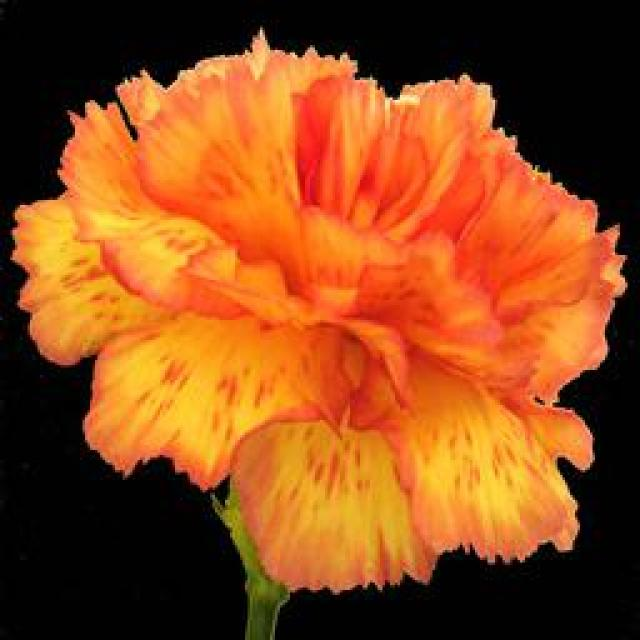carnation: (0, 22, 640, 630)
